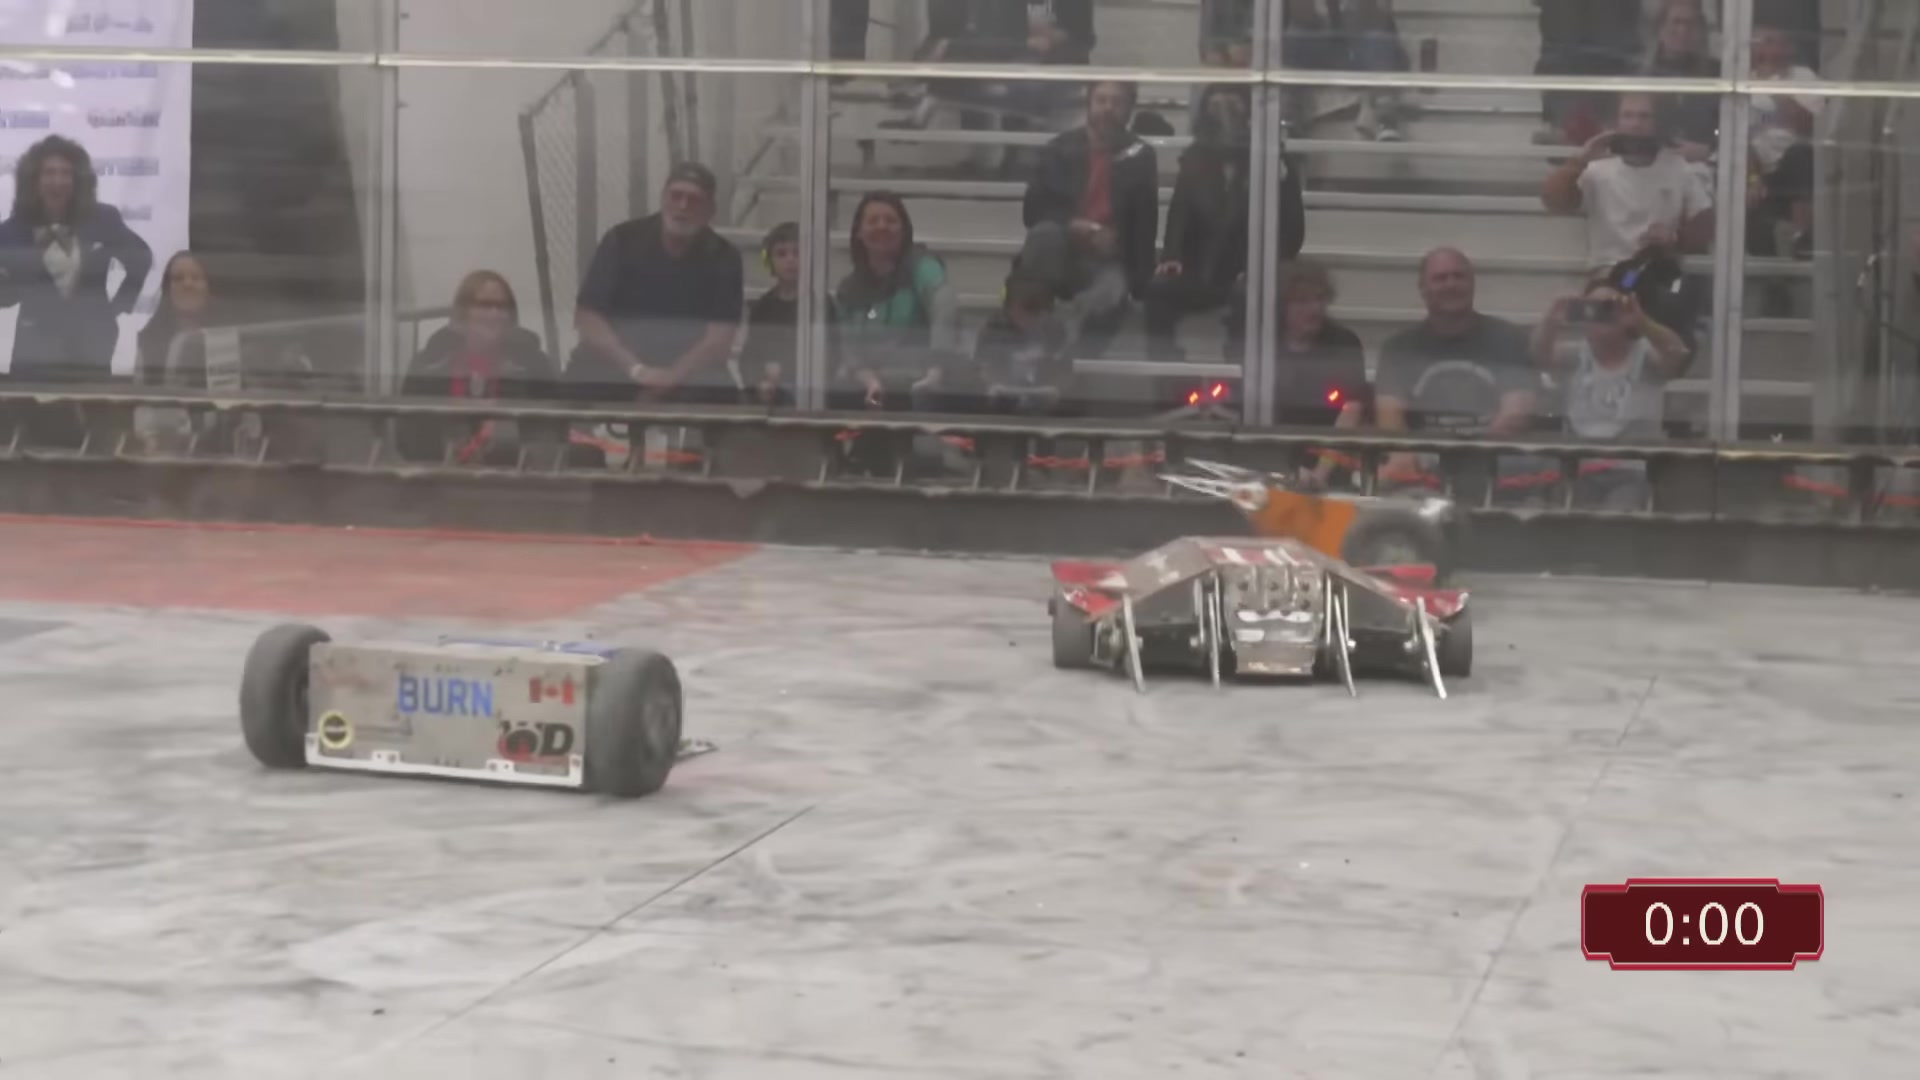combatbot: (243, 607, 717, 799), (1050, 535, 1476, 703), (1160, 456, 1464, 582)
